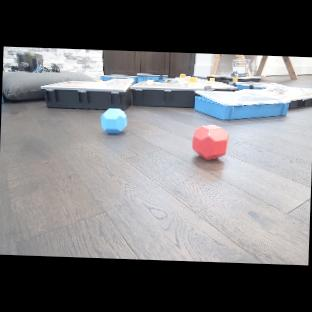V5_BLUE: (101, 108, 127, 134)
V5_RED: (191, 124, 230, 162)
